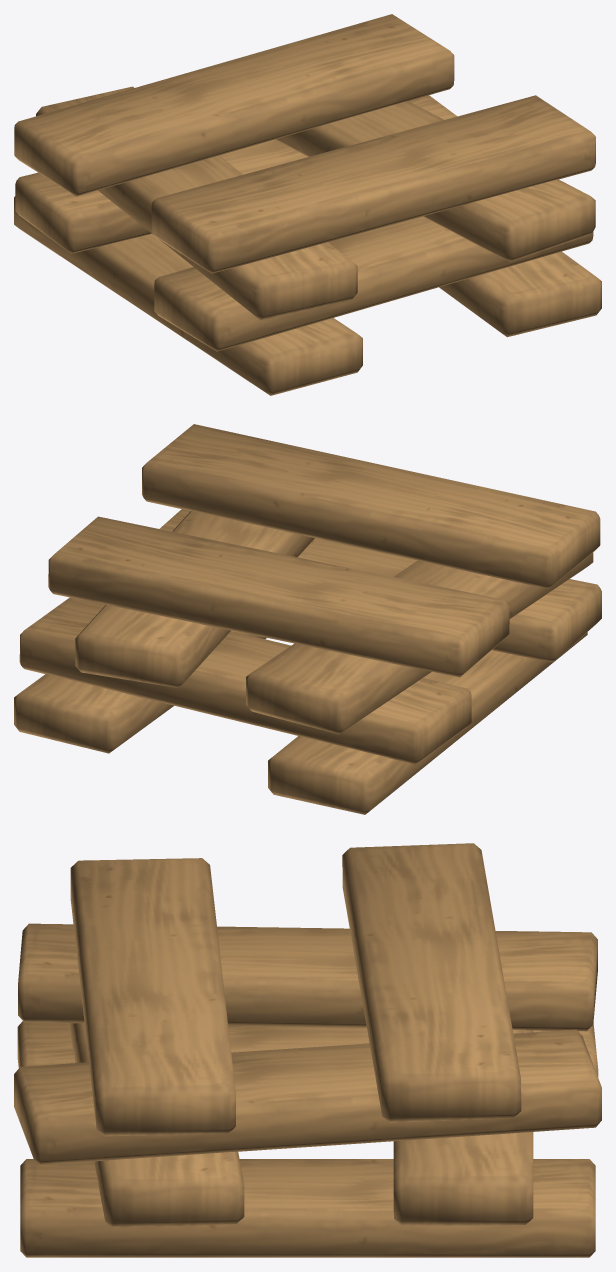
The model's file is SM_Logs_LogCabin_03.obj.
3 views of the same model, one above another, from view 1: azimuth 30°, elevation 25°; view 2: azimuth 150°, elevation 25°; view 3: azimuth 270°, elevation 25° (orthographic). The views are drawn at different scales.
Visible parts, largest first — view 1: SM_Logs_LogCabin_03_MI_CampFire_Assets; view 2: SM_Logs_LogCabin_03_MI_CampFire_Assets; view 3: SM_Logs_LogCabin_03_MI_CampFire_Assets.
Boxes of the visible parts, bbox=[...] form: SM_Logs_LogCabin_03_MI_CampFire_Assets: bbox=[14, 14, 601, 395]; SM_Logs_LogCabin_03_MI_CampFire_Assets: bbox=[14, 424, 601, 814]; SM_Logs_LogCabin_03_MI_CampFire_Assets: bbox=[14, 843, 601, 1257].
Size of the model in its own units: 0.5766 by 0.1973 by 0.5689.
1 material, 1 textured.
